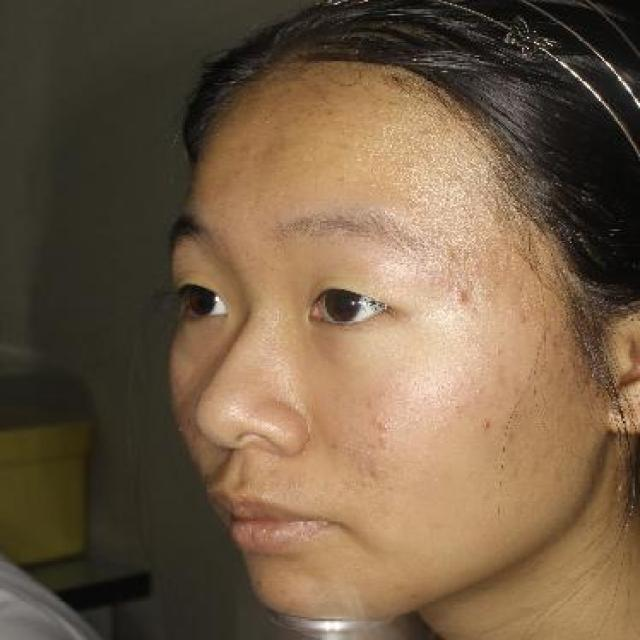darkspot: (476, 415, 495, 437)
nodules: (450, 288, 474, 306), (502, 425, 521, 445), (373, 416, 392, 433), (459, 189, 478, 200), (366, 397, 378, 411), (368, 180, 380, 191), (231, 170, 245, 179), (493, 349, 503, 360), (474, 386, 484, 397), (474, 342, 486, 351), (467, 376, 479, 385), (406, 165, 418, 172), (308, 113, 317, 122), (313, 174, 324, 180)
